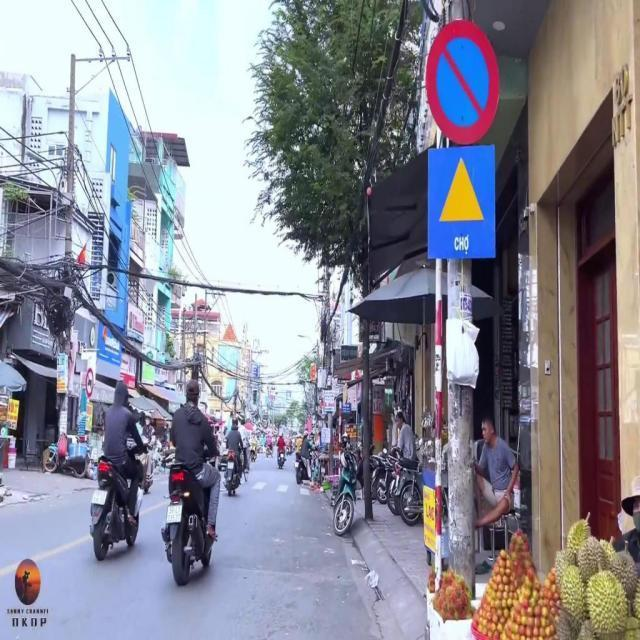106-cam-oto-tai: (86, 369, 94, 397)
131a-cam-do-xe: (424, 19, 498, 145)
442-cho: (426, 146, 498, 260)
